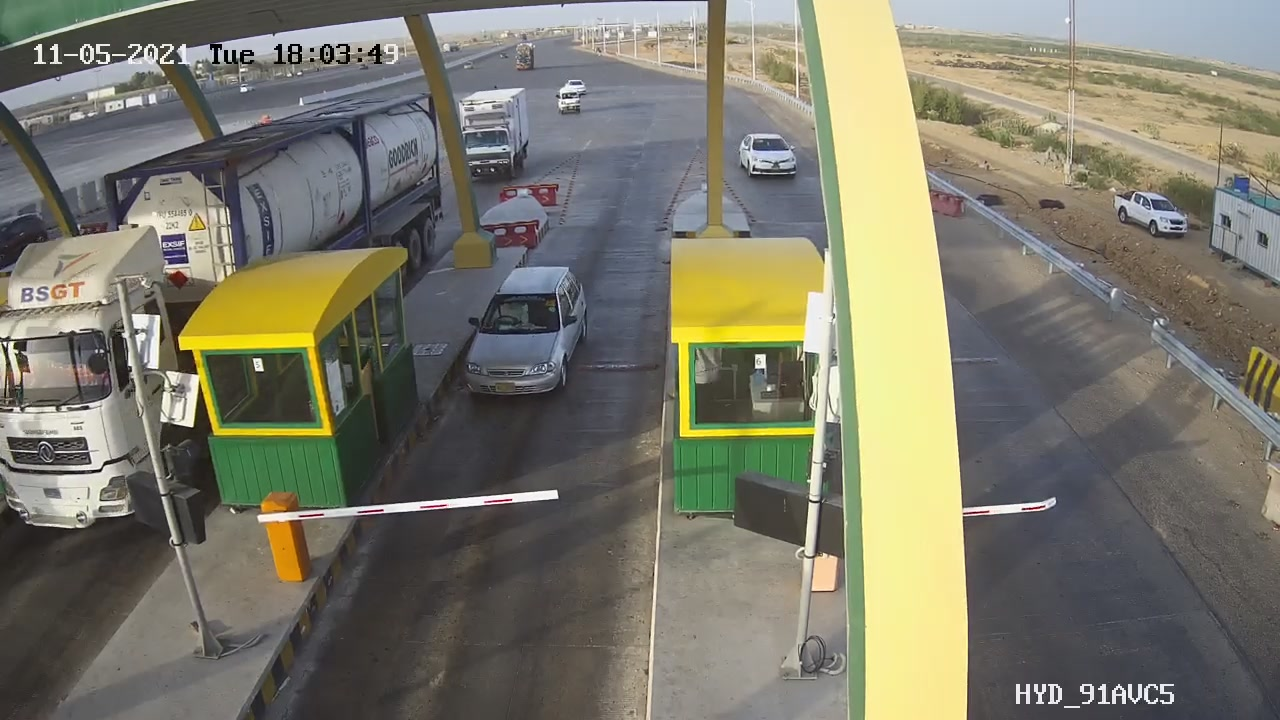F1: (443, 251, 603, 422)
